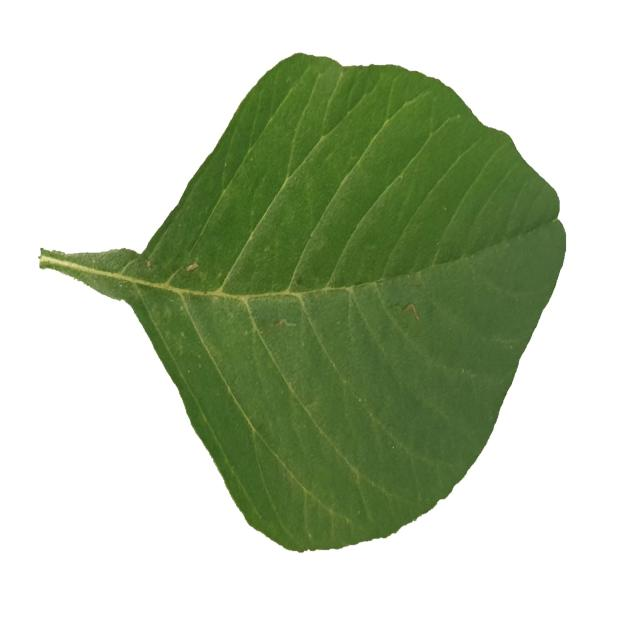Medicinal-Arive Dantu: (40, 50, 568, 552)
